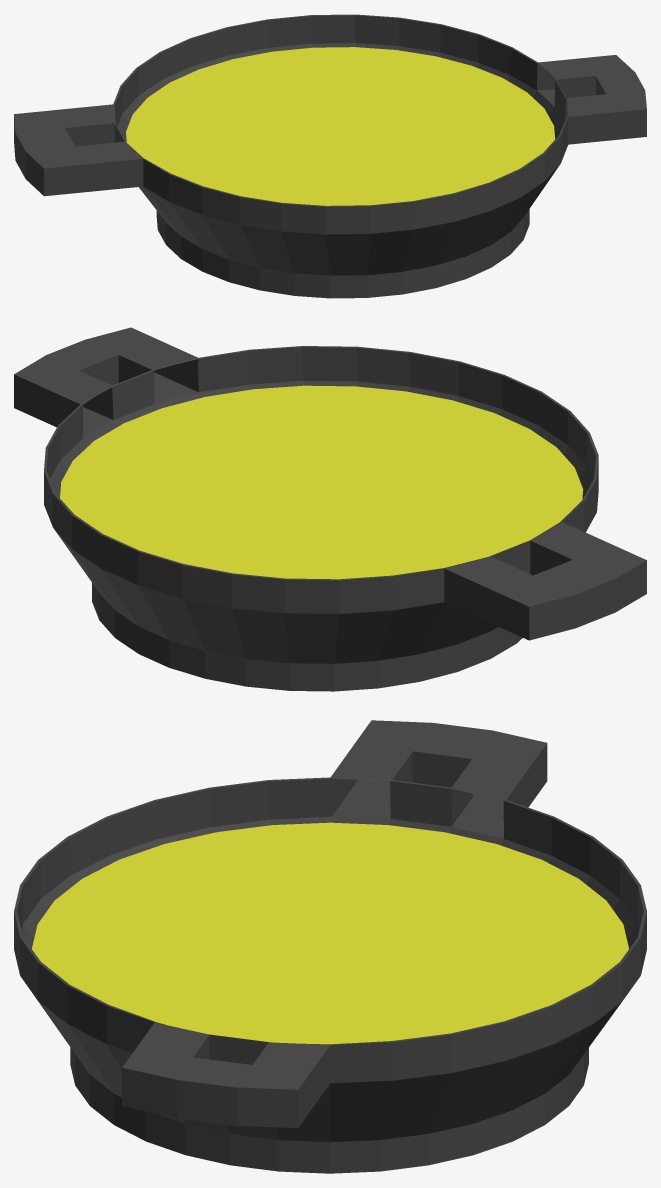
Rendered from Katel Minyak.fbx.
3 renders of one model, top to bottom at view 1: azimuth 30°, elevation 25°; view 2: azimuth 150°, elevation 25°; view 3: azimuth 270°, elevation 25°, orthographic. The views are drawn at different scales.
Parts seen in each view (by area): view 1: Cylinder, Cylinder.001; view 2: Cylinder, Cylinder.001; view 3: Cylinder, Cylinder.001.
Part boxes in pixels (left/top/right/bottom): Cylinder: left=14, top=14, right=646, bottom=298; Cylinder.001: left=126, top=47, right=555, bottom=205; Cylinder: left=14, top=327, right=646, bottom=691; Cylinder.001: left=60, top=385, right=583, bottom=579; Cylinder: left=14, top=720, right=646, bottom=1173; Cylinder.001: left=32, top=822, right=628, bottom=1044.
Size of the model in its own units: 317 by 60.59 by 229.
